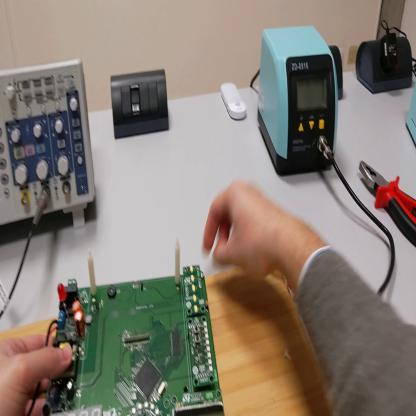hand: (203, 180, 286, 280), (2, 328, 73, 415)
low voltage board: (31, 241, 227, 416)
oscilloscope: (3, 61, 101, 231)
pliers: (361, 161, 415, 247)
socket: (357, 37, 414, 95), (331, 46, 344, 102)
welder base: (406, 78, 415, 143)
welder station: (260, 27, 339, 178)
working area: (2, 277, 326, 416)
